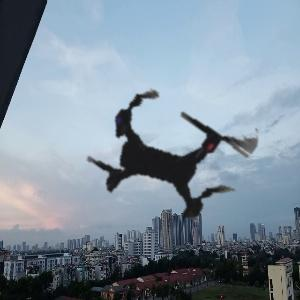drone: (45, 29, 296, 280)
